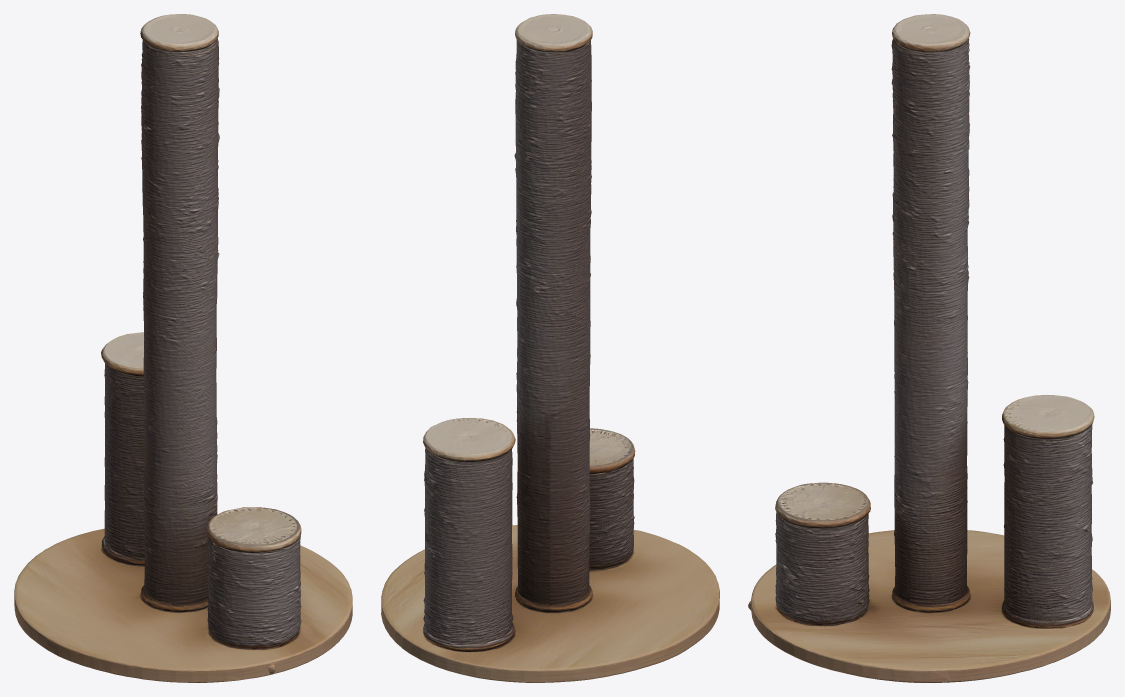
Rendered from ktochka_7.glb.
3 views of the same model, side by side, from view 1: azimuth 30°, elevation 25°; view 2: azimuth 150°, elevation 25°; view 3: azimuth 270°, elevation 25° (orthographic).
Parts seen in each view (by area): view 1: tripo_node_ae3be183-cea5-4fd5-8d3d-7b04371ad718; view 2: tripo_node_ae3be183-cea5-4fd5-8d3d-7b04371ad718; view 3: tripo_node_ae3be183-cea5-4fd5-8d3d-7b04371ad718.
Boxes of the visible parts, x1,y1,x2,y2 form: tripo_node_ae3be183-cea5-4fd5-8d3d-7b04371ad718: (14, 14, 352, 682); tripo_node_ae3be183-cea5-4fd5-8d3d-7b04371ad718: (381, 14, 719, 682); tripo_node_ae3be183-cea5-4fd5-8d3d-7b04371ad718: (748, 14, 1110, 682).
Size of the model in its own units: 0.5243 by 1 by 0.5648.
1 material, 1 textured.
